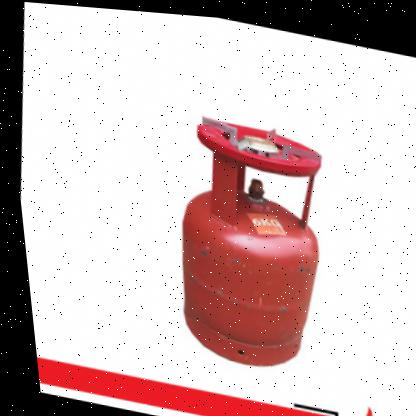gas-tank: (119, 88, 368, 388)
